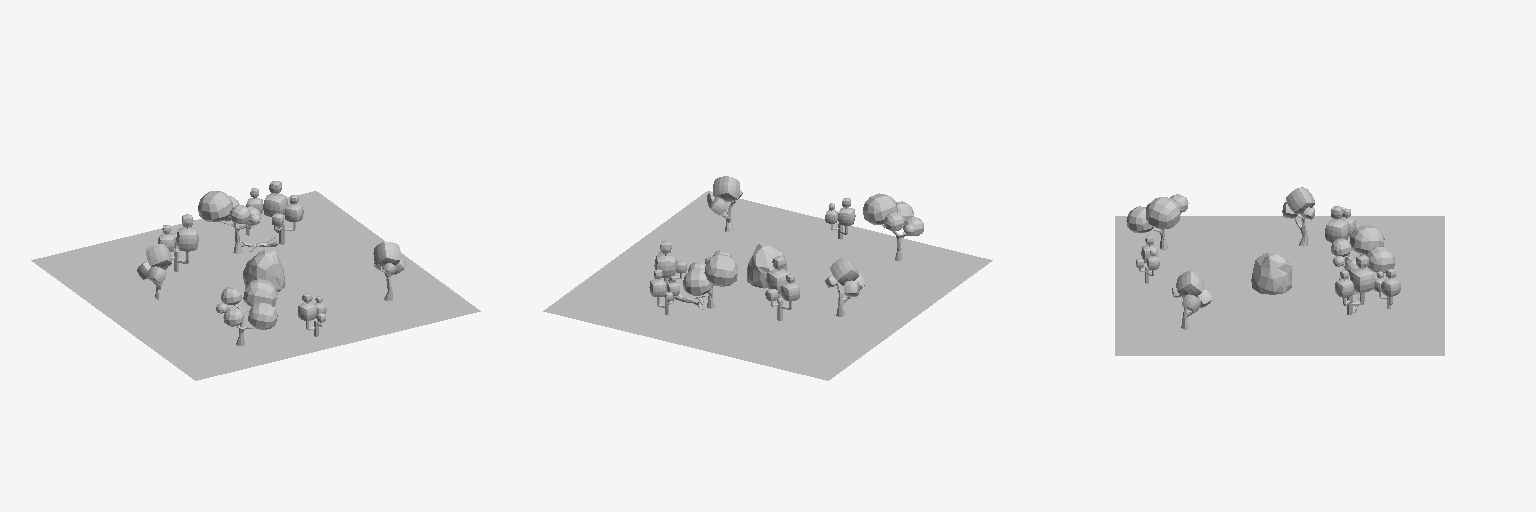
Rendered from level_update.obj.
3 views of the same model, side by side, from view 1: azimuth 30°, elevation 25°; view 2: azimuth 150°, elevation 25°; view 3: azimuth 270°, elevation 25° (orthographic).
Parts seen in each view (by area): view 1: Plane.001_Plane.010, Tree.034_Circle.024, Tree.029_Circle.009, Tree.030_Circle.020, Stone.016_Icosphere.002, Tree.033_Circle.023, Tree.028_Circle.008, Tree.035_Circle.025, Tree.027_Circle.007; view 2: Plane.001_Plane.010, Tree.034_Circle.024, Tree.029_Circle.009, Tree.033_Circle.023, Tree.028_Circle.008, Tree.035_Circle.025, Stone.016_Icosphere.002, Tree.030_Circle.020, Tree.036_Circle.026, Tree.027_Circle.007; view 3: Plane.001_Plane.010, Tree.029_Circle.009, Tree.034_Circle.024, Stone.016_Icosphere.002, Tree.030_Circle.020, Tree.035_Circle.025, Tree.028_Circle.008, Tree.033_Circle.023, Tree.036_Circle.026, Tree.027_Circle.007.
Part boxes in pixels (bbox=[...]): Plane.001_Plane.010: bbox=[31, 191, 480, 380]; Tree.034_Circle.024: bbox=[216, 279, 277, 345]; Tree.029_Circle.009: bbox=[198, 191, 260, 253]; Tree.030_Circle.020: bbox=[263, 181, 303, 244]; Stone.016_Icosphere.002: bbox=[243, 250, 284, 291]; Tree.033_Circle.023: bbox=[158, 214, 198, 271]; Tree.028_Circle.008: bbox=[137, 244, 171, 299]; Tree.035_Circle.025: bbox=[373, 242, 405, 300]; Tree.027_Circle.007: bbox=[298, 293, 326, 336]; Plane.001_Plane.010: bbox=[543, 191, 992, 380]; Tree.034_Circle.024: bbox=[863, 193, 923, 260]; Tree.029_Circle.009: bbox=[683, 250, 738, 308]; Tree.033_Circle.023: bbox=[765, 256, 799, 320]; Tree.028_Circle.008: bbox=[825, 257, 866, 316]; Tree.035_Circle.025: bbox=[707, 176, 742, 232]; Stone.016_Icosphere.002: bbox=[747, 243, 786, 288]; Tree.030_Circle.020: bbox=[654, 241, 686, 285]; Tree.036_Circle.026: bbox=[649, 269, 679, 314]; Tree.027_Circle.007: bbox=[825, 198, 855, 239]; Plane.001_Plane.010: bbox=[1115, 216, 1444, 355]; Tree.029_Circle.009: bbox=[1331, 225, 1395, 294]; Tree.034_Circle.024: bbox=[1126, 194, 1188, 249]; Stone.016_Icosphere.002: bbox=[1251, 253, 1291, 294]; Tree.030_Circle.020: bbox=[1335, 255, 1374, 314]; Tree.035_Circle.025: bbox=[1172, 270, 1212, 329]; Tree.028_Circle.008: bbox=[1282, 187, 1314, 246]; Tree.033_Circle.023: bbox=[1325, 206, 1355, 262]; Tree.036_Circle.026: bbox=[1374, 269, 1400, 308]; Tree.027_Circle.007: bbox=[1136, 235, 1159, 283].
Size of the model in its own units: 40 by 8.33 by 40.